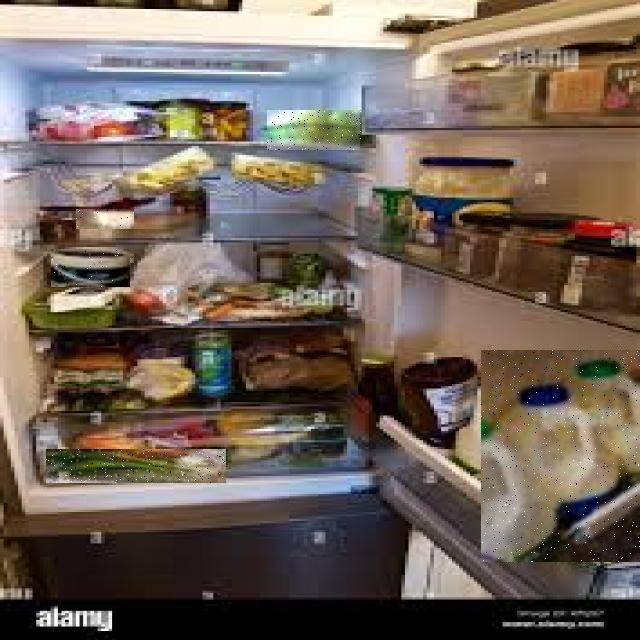Butter: (76, 209, 134, 229)
Eggs: (268, 110, 362, 150)
Milk: (481, 351, 640, 563)
Spring onion: (46, 449, 226, 483)
Yoghurt: (51, 249, 130, 287)
